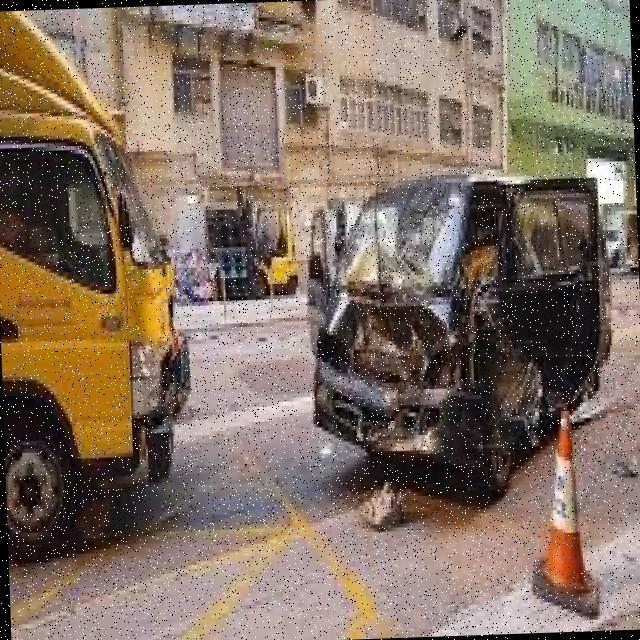accident: (298, 140, 624, 498)
